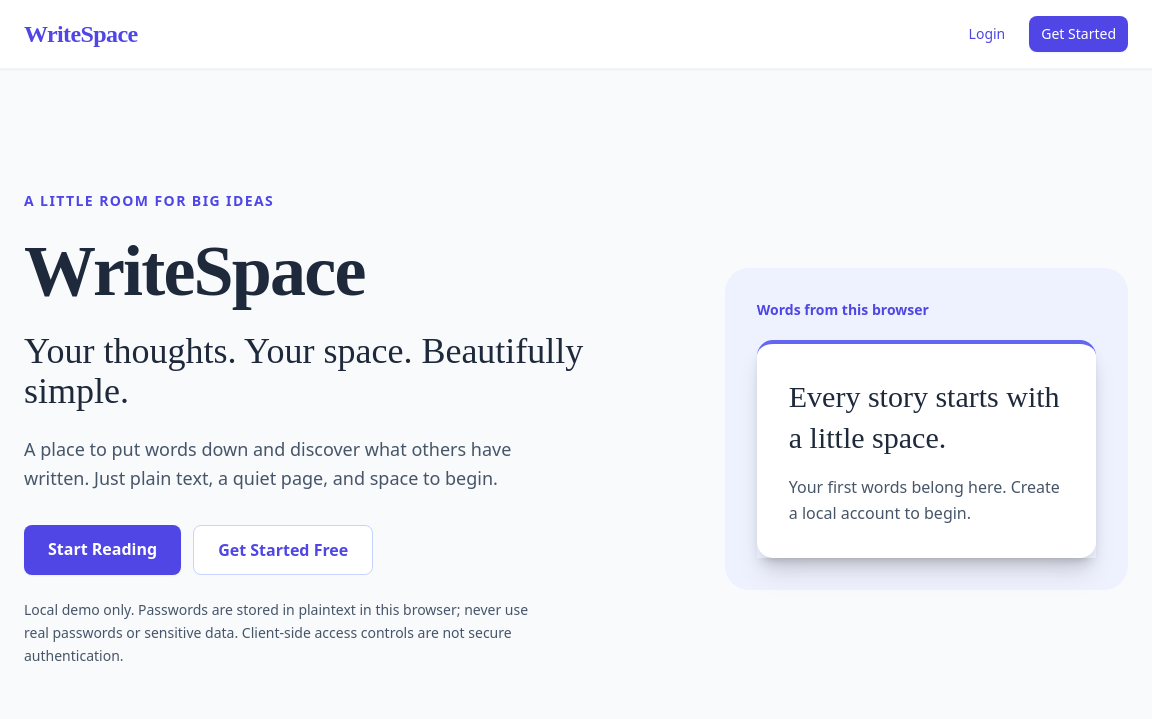
Test: public landing and App wiring › guest CTA Get Started Free navigates to /register
Click the link "Get Started Free": (283, 550) [193,525,373,575]
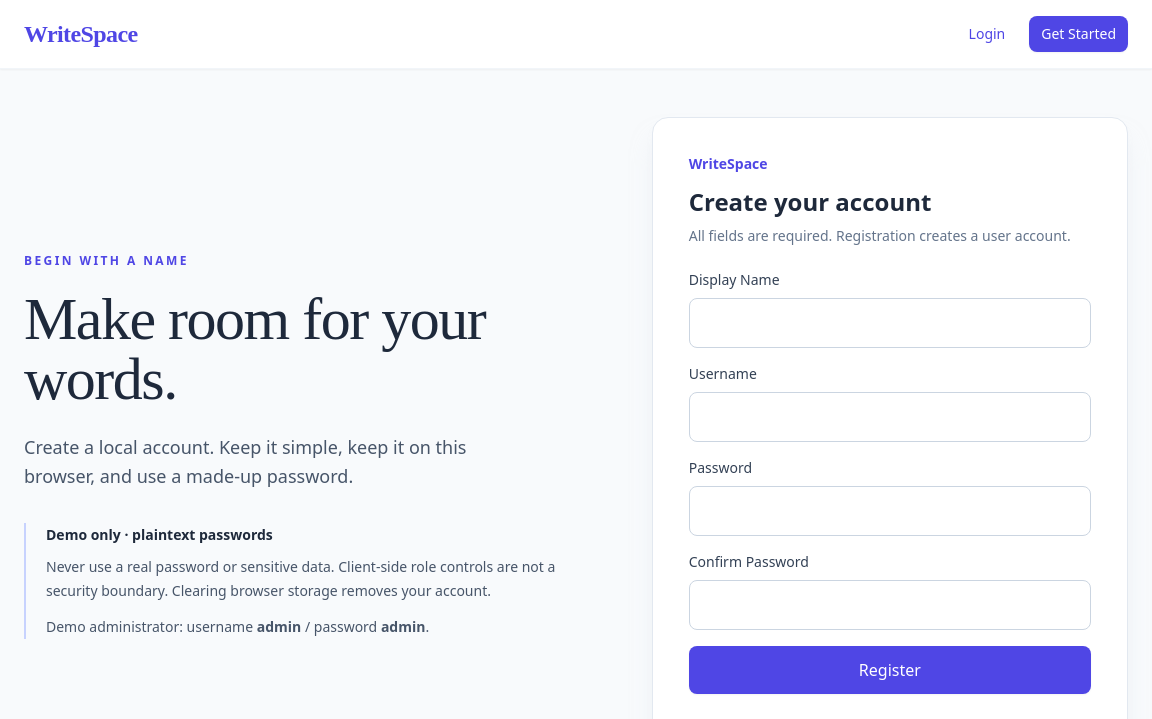
expect the field labelled "Username" is shown: met, box [689,392,1091,442]
